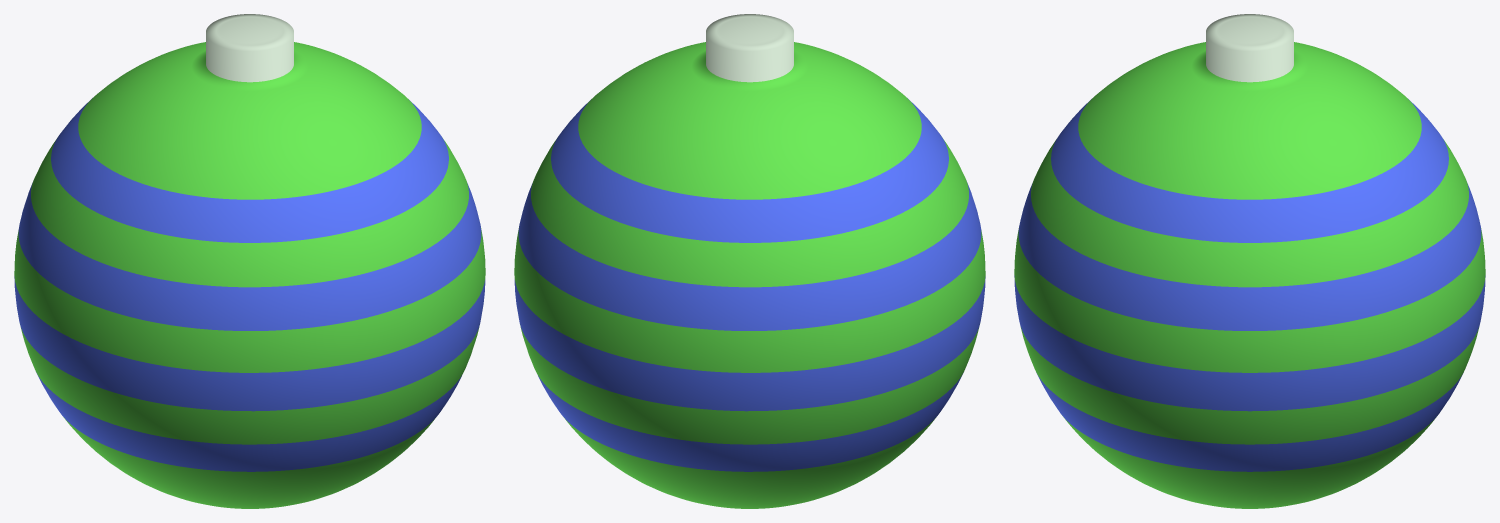
The model's file is kerstgreen.glb.
3 views of the same model, side by side, from view 1: azimuth 30°, elevation 25°; view 2: azimuth 150°, elevation 25°; view 3: azimuth 270°, elevation 25° (orthographic).
Visible parts, largest first — view 1: Sphere; view 2: Sphere; view 3: Sphere.
Part boxes in pixels (<box>): Sphere: <box>14,14,485,508</box>; Sphere: <box>514,14,985,508</box>; Sphere: <box>1014,14,1485,508</box>.
Bounding box in the file's own units: 2 × 2.14 × 2.
